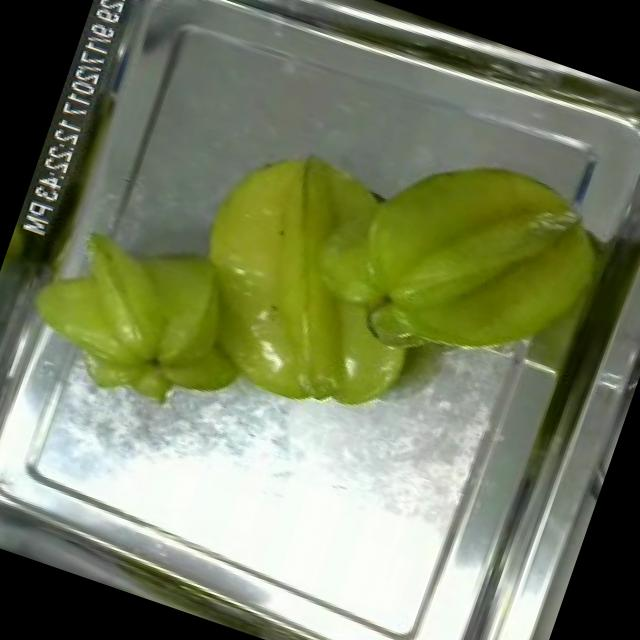fruit: (146, 113, 474, 446), (318, 110, 640, 410), (6, 192, 276, 426)
